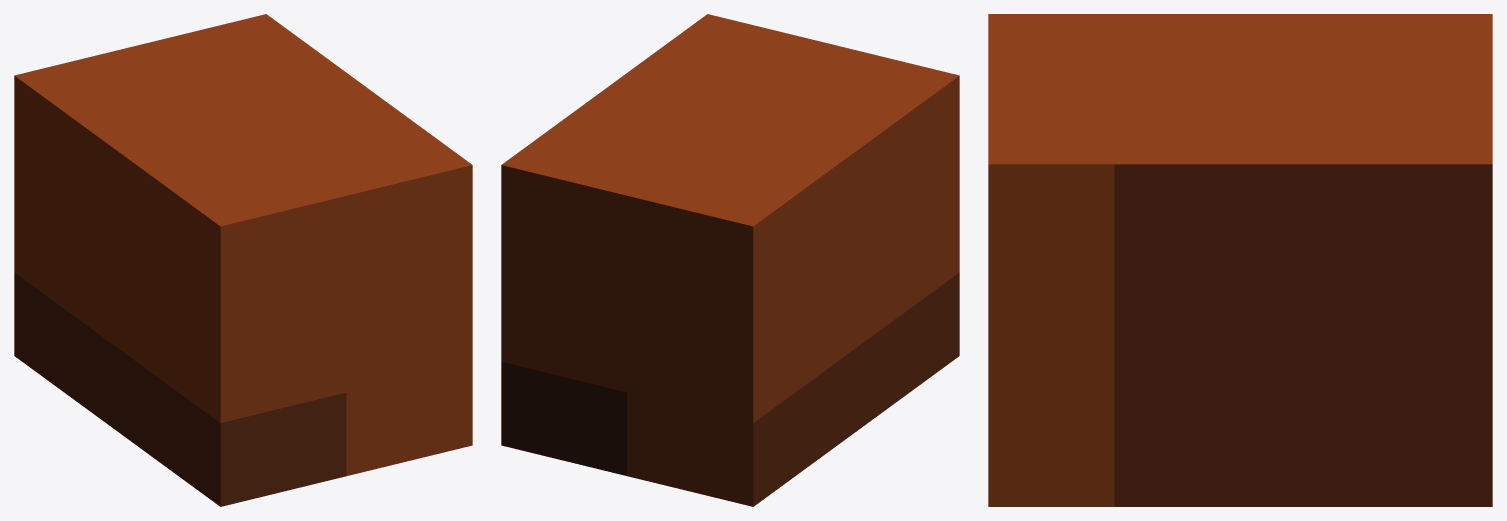
Rendered from R_Arm_ArchersStrappings.glb.
3 renders of one model, left to right at view 1: azimuth 30°, elevation 25°; view 2: azimuth 150°, elevation 25°; view 3: azimuth 270°, elevation 25°, orthographic. The views are drawn at different scales.
Parts seen in each view (by area): view 1: R_Arm_ArchersStrappings.001; view 2: R_Arm_ArchersStrappings.001; view 3: R_Arm_ArchersStrappings.001.
Boxes of the visible parts, x1,y1,x2,y2 form: R_Arm_ArchersStrappings.001: [14, 14, 472, 506]; R_Arm_ArchersStrappings.001: [501, 14, 959, 506]; R_Arm_ArchersStrappings.001: [988, 14, 1492, 506].
Size of the model in its own units: 19.84 by 21.09 by 28.12.
Materials: 1 (1 with a texture image).
